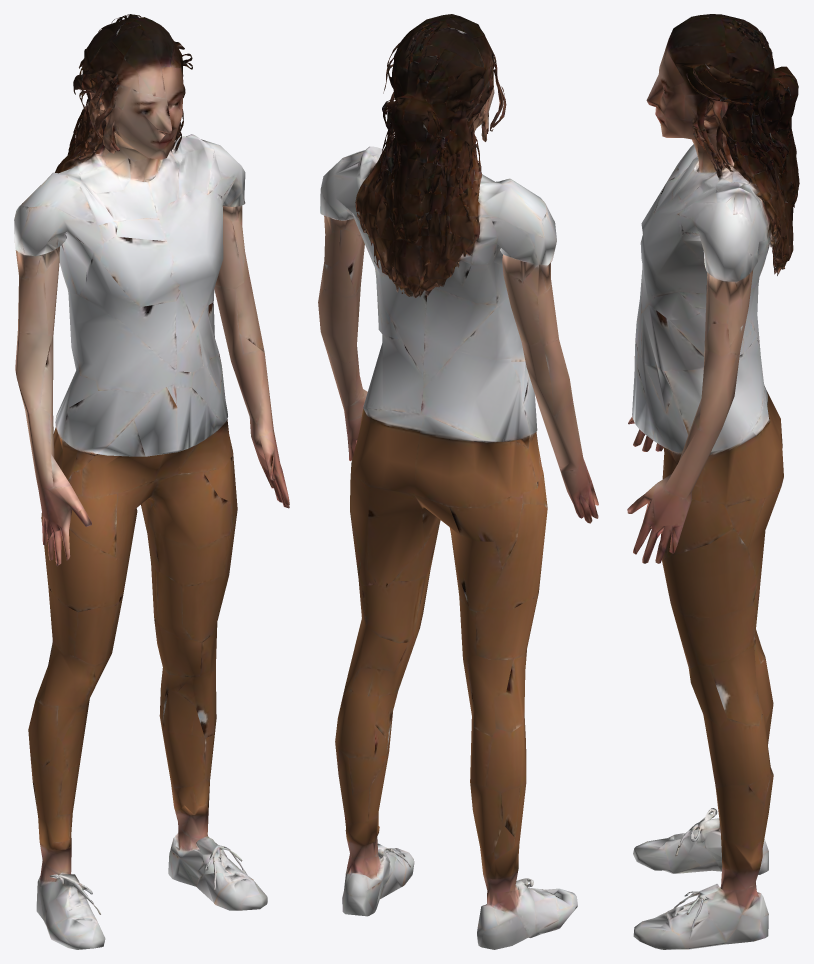
3 views of the same model, side by side, from view 1: azimuth 30°, elevation 25°; view 2: azimuth 150°, elevation 25°; view 3: azimuth 270°, elevation 25° (orthographic).
Size of the model in its own units: 0.4742 by 1.66 by 0.2916.
Materials: 1 (1 with a texture image).
